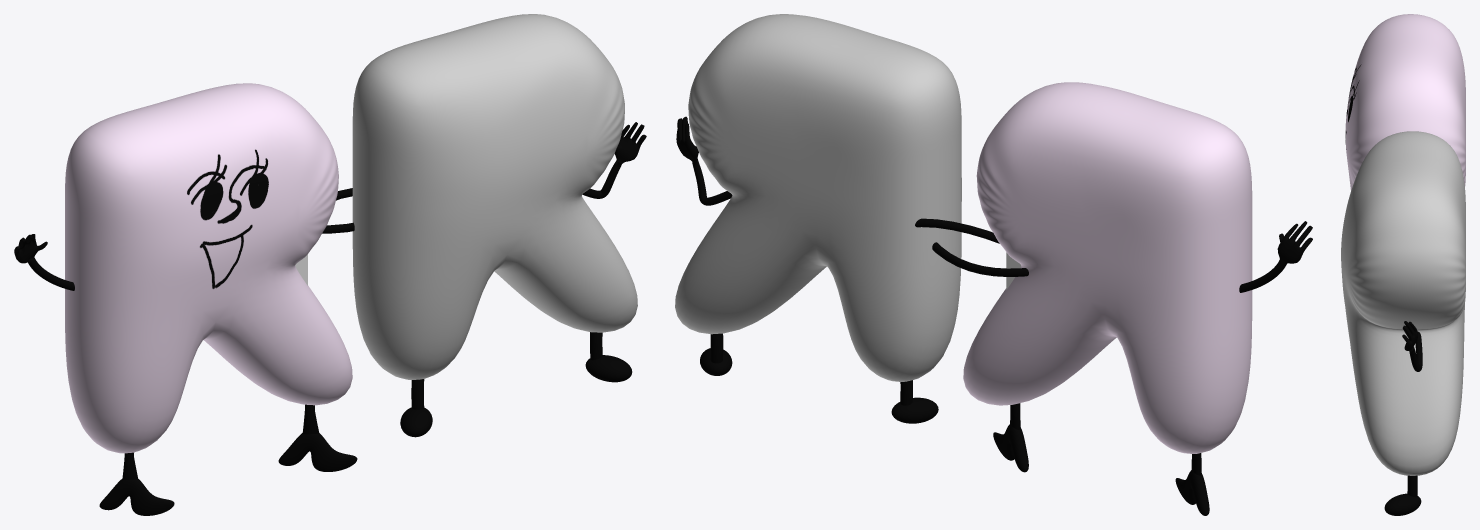
Rendered from rkun.fbx.
The picture shows the model from 3 angles, left to right: view 1: azimuth 30°, elevation 25°; view 2: azimuth 150°, elevation 25°; view 3: azimuth 270°, elevation 25°; orthographic projection. The views are drawn at different scales.
Parts seen in each view (by area): view 1: Cube.001, Cube.002, 立方体.001, 立方体, ベジエカーブ.005, ベジエカーブ.004, Sphere.001, Sphere.003; view 2: Cube.001, Cube.002, ベジエカーブ.004, ベジエカーブ.005, 立方体.001, ベジエカーブ.001, Sphere.003, 立方体, ベジエカーブ; view 3: Cube.002, Cube.001, ベジエカーブ.005, Sphere.001, Cylinder.001.
Boxes of the visible parts, left/top/right/bottom form: Cube.001: left=65, top=83, right=352, bottom=453; Cube.002: left=352, top=14, right=637, bottom=379; 立方体.001: left=278, top=433, right=357, bottom=471; 立方体: left=99, top=479, right=174, bottom=515; ベジエカーブ.005: left=582, top=122, right=646, bottom=198; ベジエカーブ.004: left=14, top=234, right=74, bottom=290; Sphere.001: left=585, top=355, right=632, bottom=382; Sphere.003: left=400, top=407, right=432, bottom=437; Cube.001: left=963, top=82, right=1252, bottom=453; Cube.002: left=675, top=14, right=961, bottom=381; ベジエカーブ.004: left=1239, top=221, right=1312, bottom=292; ベジエカーブ.005: left=676, top=116, right=732, bottom=205; 立方体.001: left=993, top=424, right=1028, bottom=472; ベジエカーブ.001: left=932, top=242, right=1028, bottom=276; Sphere.003: left=891, top=397, right=938, bottom=423; 立方体: left=1175, top=470, right=1209, bottom=515; ベジエカーブ: left=915, top=218, right=999, bottom=243; Cube.002: left=1341, top=131, right=1465, bottom=475; Cube.001: left=1345, top=14, right=1465, bottom=190; ベジエカーブ.005: left=1402, top=321, right=1422, bottom=371; Sphere.001: left=1384, top=493, right=1421, bottom=515; Cylinder.001: left=1407, top=475, right=1417, bottom=497.
Bounding box in the file's own units: 18.74 × 11.18 × 3.92.
